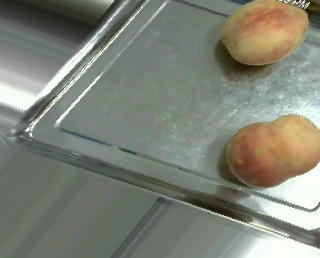Peach: (223, 115, 320, 187), (220, 0, 309, 65)
